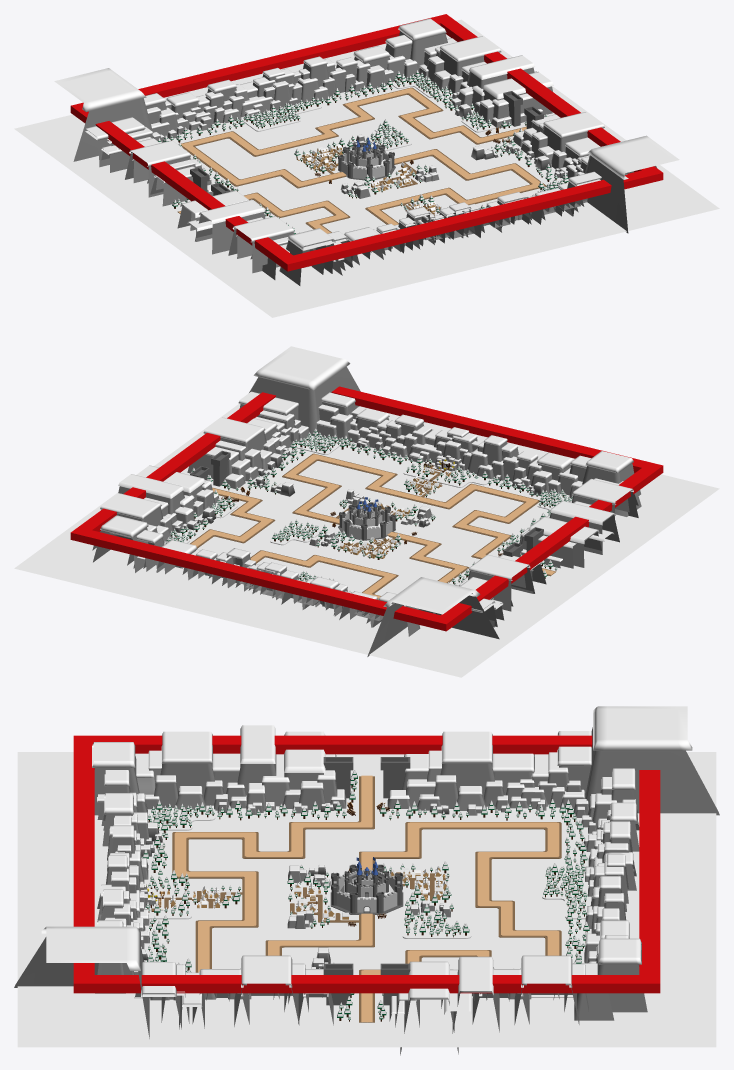
The model's file is MainStage(2line).fbx.
3 views of the same model, one above another, from view 1: azimuth 30°, elevation 25°; view 2: azimuth 150°, elevation 25°; view 3: azimuth 270°, elevation 25° (orthographic). The views are drawn at different scales.
Parts seen in each view (by area): view 1: plane, rock.mountain, camera.boundary.line, enemy.road, tree, stone.hill, map2.castle, hill.snow, Wall, house; view 2: plane, rock.mountain, camera.boundary.line, enemy.road, tree, stone.hill, hill.snow, map2.castle, Wall, house; view 3: plane, rock.mountain, camera.boundary.line, enemy.road, tree, stone.hill, hill.snow, map2.castle, Wall, house, vill.road.
Boxes of the visible parts, box(x1,y1,x2,y2) form: plane: box(14, 19, 719, 317); rock.mountain: box(54, 18, 679, 285); camera.boundary.line: box(70, 14, 663, 271); enemy.road: box(177, 87, 546, 233); tree: box(157, 70, 568, 234); stone.hill: box(152, 92, 564, 198); map2.castle: box(338, 137, 395, 180); hill.snow: box(241, 76, 568, 267); Wall: box(190, 91, 543, 195); house: box(296, 145, 440, 212); plane: box(14, 403, 719, 677); rock.mountain: box(92, 346, 641, 656); camera.boundary.line: box(70, 386, 663, 631); enemy.road: box(190, 453, 556, 599); tree: box(164, 428, 573, 592); stone.hill: box(175, 441, 545, 585); hill.snow: box(172, 436, 571, 581); map2.castle: box(338, 497, 395, 540); Wall: box(190, 450, 543, 557); house: box(339, 468, 439, 558); plane: box(17, 752, 716, 1047); rock.mountain: box(14, 706, 719, 1055); camera.boundary.line: box(73, 735, 660, 993); enemy.road: box(172, 775, 561, 1022); tree: box(142, 769, 589, 1021); stone.hill: box(140, 794, 596, 969); hill.snow: box(134, 805, 591, 998); map2.castle: box(330, 857, 403, 914); Wall: box(323, 757, 410, 1005); house: box(170, 865, 447, 919); vill.road: box(192, 872, 445, 922).
Size of the model in its own units: 6000 by 813 by 6061.
